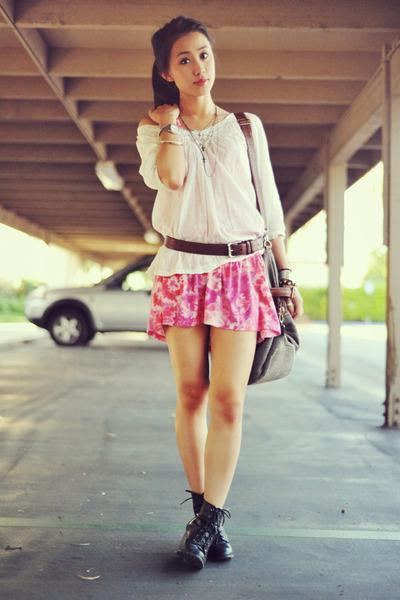long sleeve shirt: (137, 109, 287, 282)
skirt: (143, 241, 283, 338)
